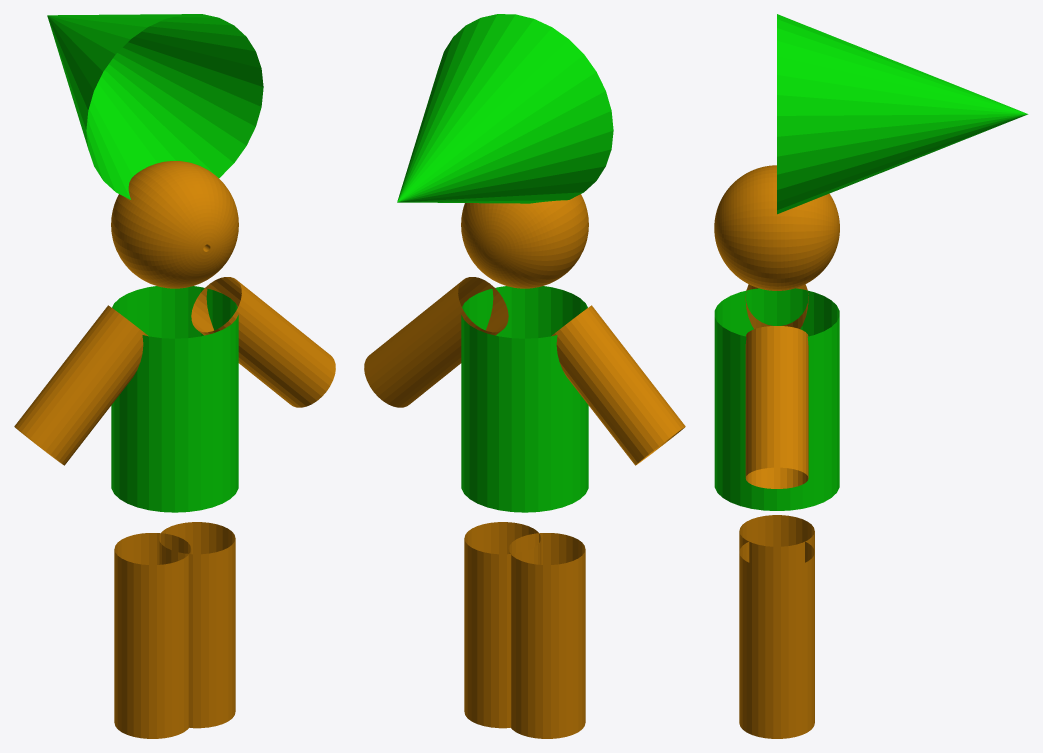
3 renders of one model, left to right at view 1: azimuth 30°, elevation 25°; view 2: azimuth 150°, elevation 25°; view 3: azimuth 270°, elevation 25°, orthographic.
Bounding box in the file's own units: 2.8 × 6.05 × 2.5.
